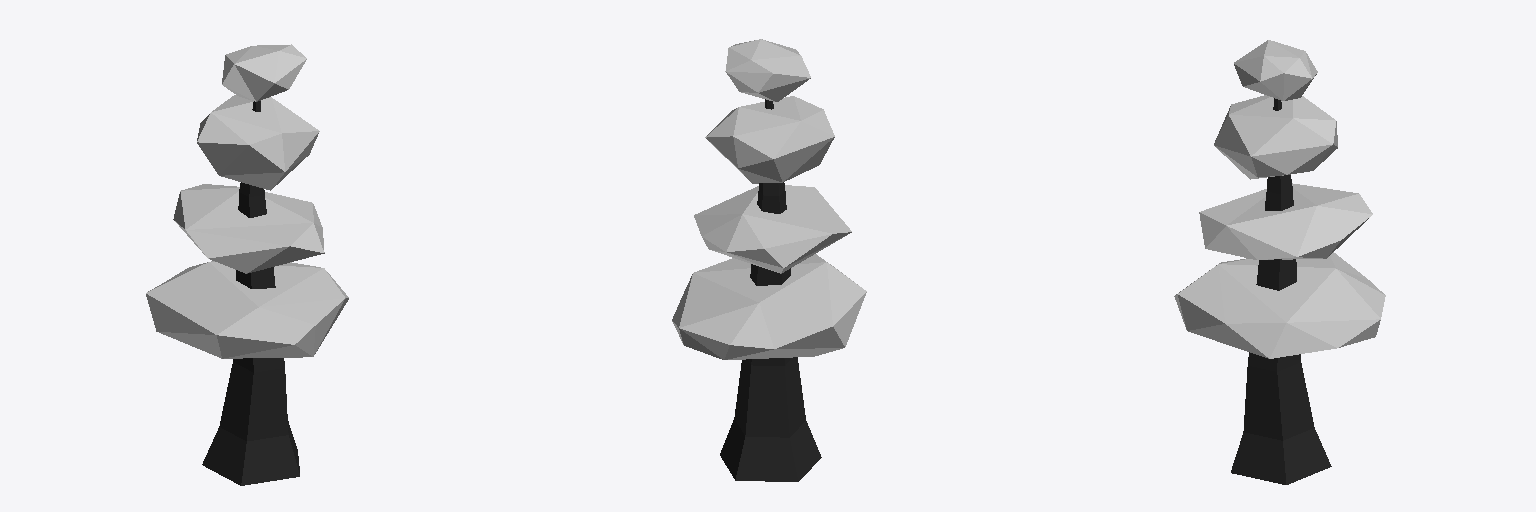
Rendered from Low_Poly_Tree_002.obj.
3 views of the same model, side by side, from view 1: azimuth 30°, elevation 25°; view 2: azimuth 150°, elevation 25°; view 3: azimuth 270°, elevation 25° (orthographic).
Visible parts, largest first — view 1: Low_Poly_Tree_002_Icosphere.001; view 2: Low_Poly_Tree_002_Icosphere.001; view 3: Low_Poly_Tree_002_Icosphere.001.
Boxes of the visible parts, x1,y1,x2,y2 form: Low_Poly_Tree_002_Icosphere.001: [146, 44, 348, 485]; Low_Poly_Tree_002_Icosphere.001: [672, 39, 866, 481]; Low_Poly_Tree_002_Icosphere.001: [1174, 40, 1385, 484].
Size of the model in its own units: 4.89 by 10.96 by 5.07.